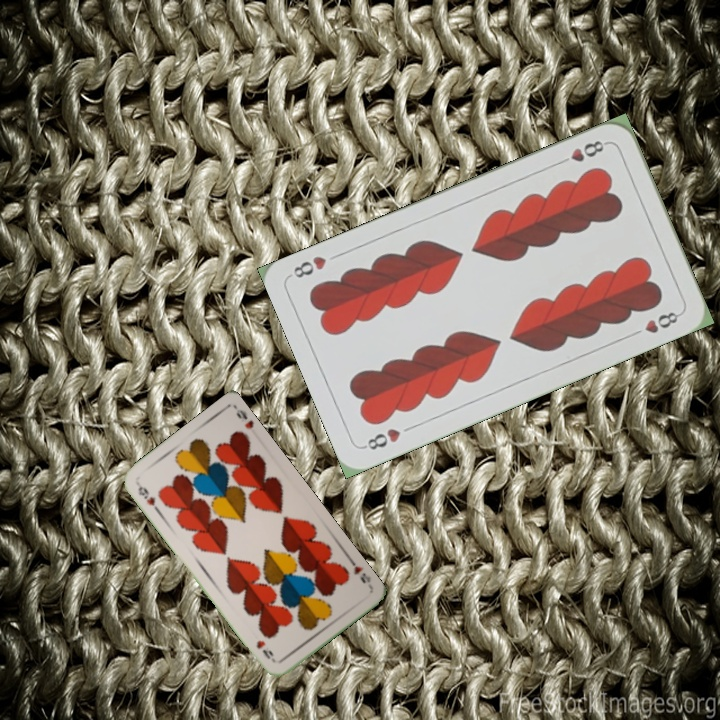H8: (554, 136, 610, 168), (359, 424, 404, 453)
H9: (345, 554, 374, 590), (133, 480, 159, 508)
